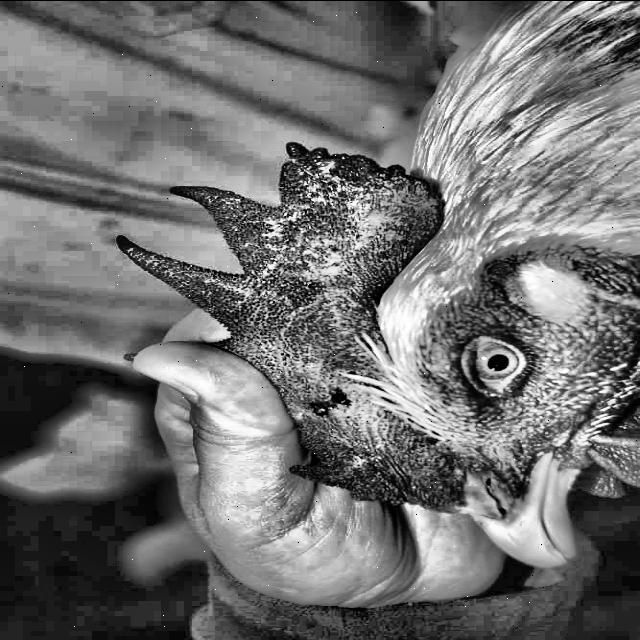Fowlpox: (110, 112, 434, 516)
